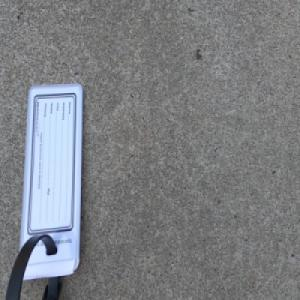LuggageTag: (2, 80, 85, 300)
